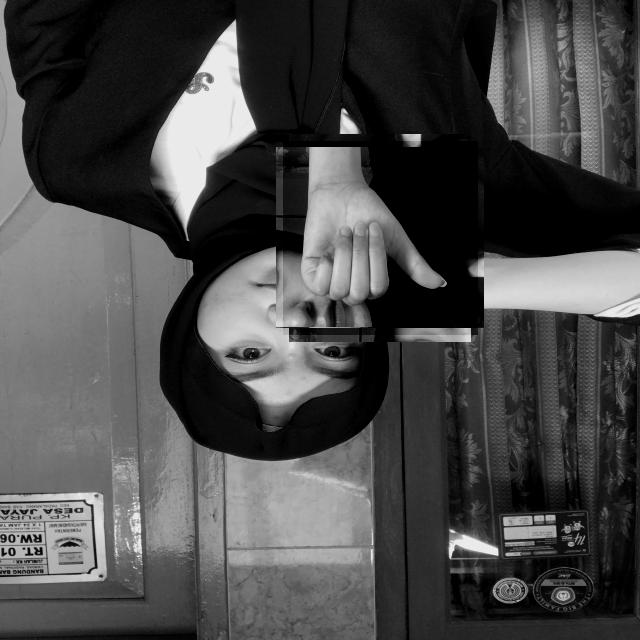sedih: (283, 141, 478, 335)
